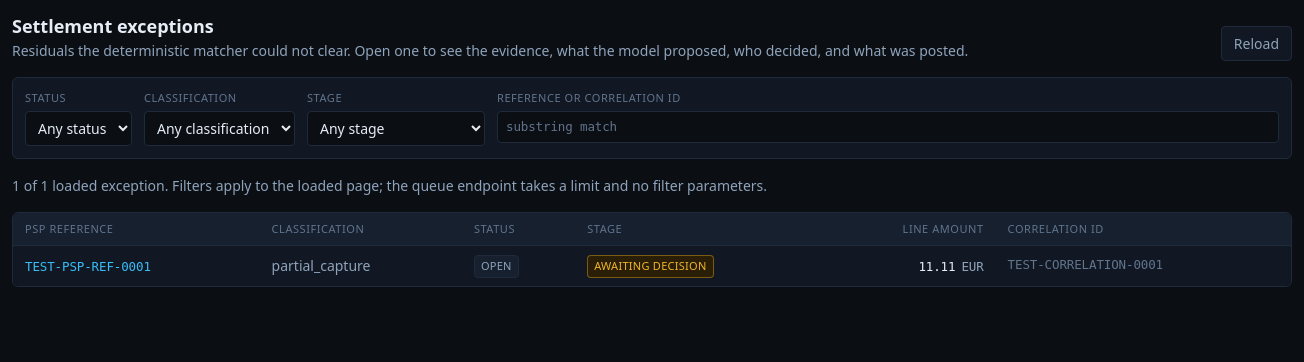
Test: empty › a filtered-out queue is distinguished from an empty one
Check: the link "TEST-PSP-REF-0001" is shown, box [25,259,151,274]
# A substring that matches nothing.
In the field labelled "Reference or correlation id": (888, 127) [497,110,1279,143], type "NO-SUCH-REFERENCE"
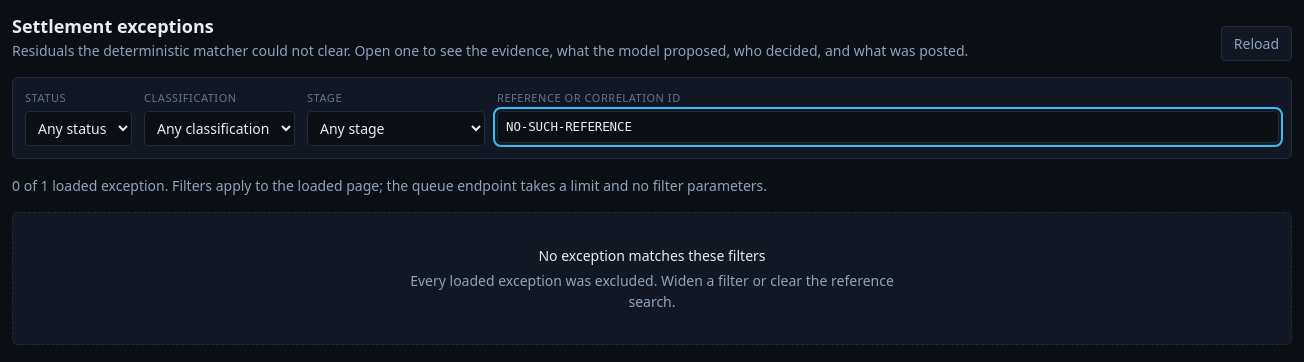
Check: the text "No exception matches these filters" is shown, box [538,246,766,264]
